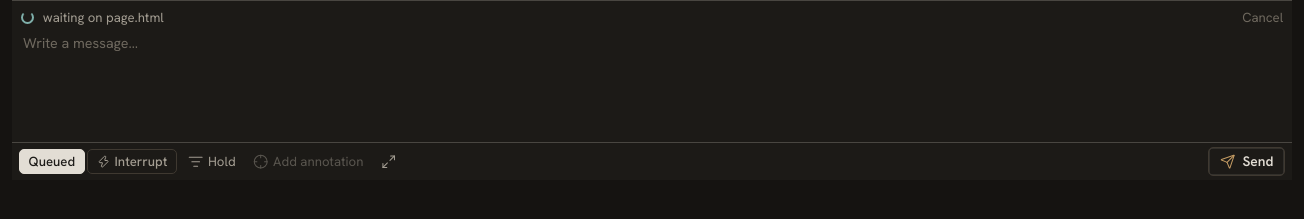
it: AnnotationComposer › waits on the file with a cancel, shows the outcome's notice, and abandons the pick when it unmounts
Check: the element with test id "composer-waiting" shows "waiting on page.html", box [12,1,1292,27]
Click the button with test id "composer-waiting-cancel" at x=1263, y=18, box [1242,8,1283,27]
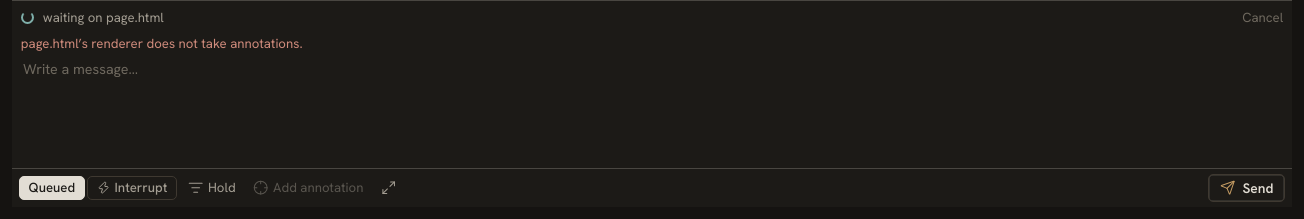
Check: the message with test id "composer-notice" reads "page.html’s renderer does not take annotations.", box [21,35,303,52]
